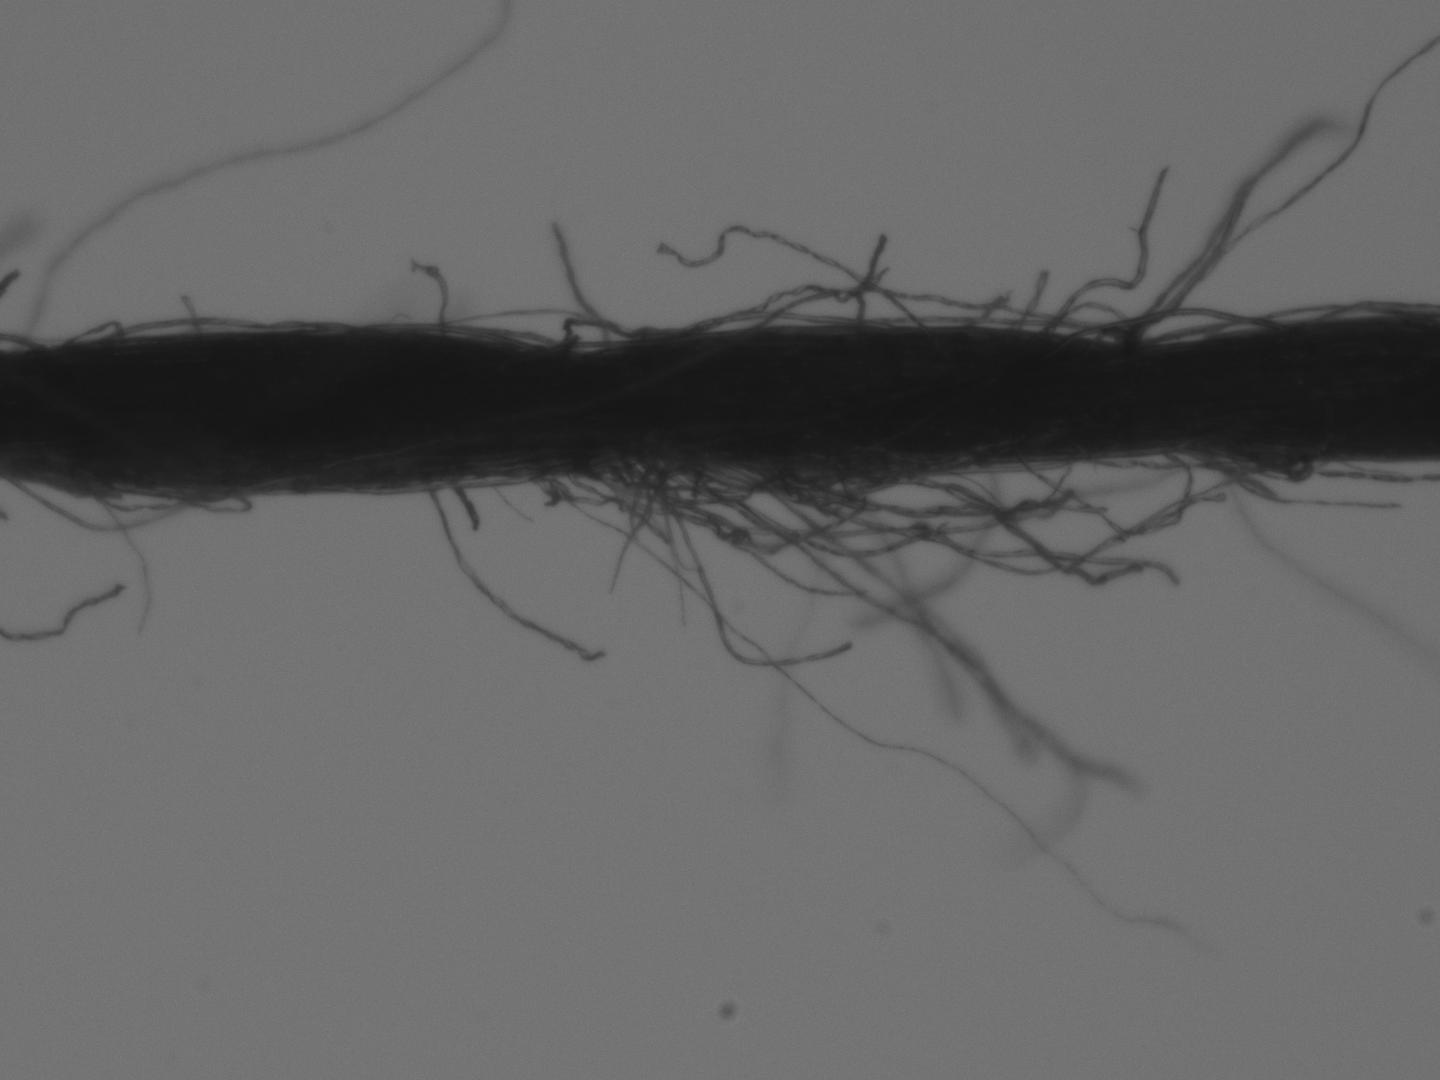loop_fiber: (1011, 452, 1191, 533), (749, 452, 973, 506), (2, 476, 195, 539), (578, 450, 788, 504), (1078, 304, 1280, 348), (700, 282, 864, 336), (676, 455, 790, 506), (539, 314, 666, 352), (1047, 301, 1137, 352), (773, 447, 883, 486), (1197, 447, 1314, 482), (1305, 298, 1435, 327), (162, 486, 249, 514), (96, 487, 183, 514), (58, 318, 121, 352)
protruding_fiber: (414, 472, 603, 665), (1040, 162, 1171, 335), (409, 254, 454, 341), (447, 474, 480, 534), (179, 292, 201, 336)
